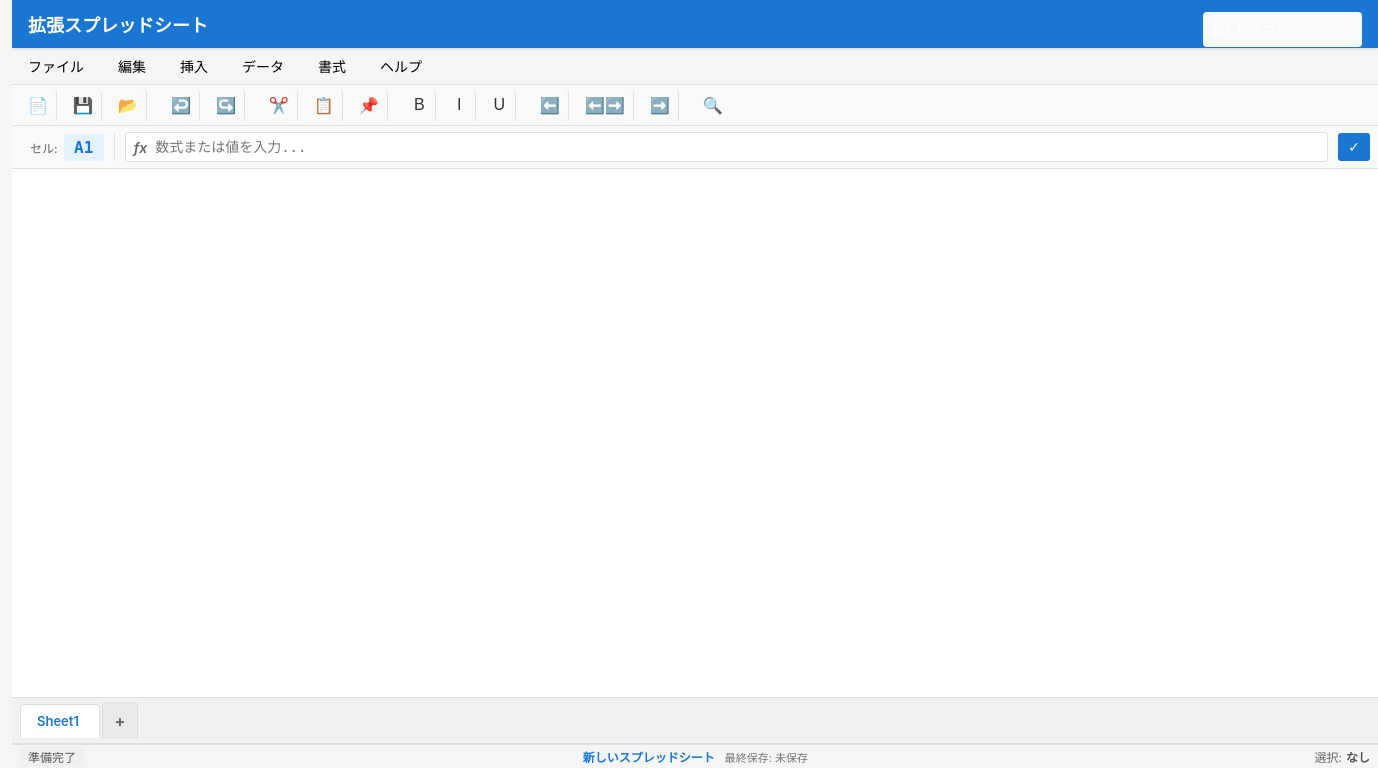
Test: can add new sheet
# 新しいシートを追加するボタンをクリック
Click the icon "+". click: (120, 721)
box: [115,711,126,731]
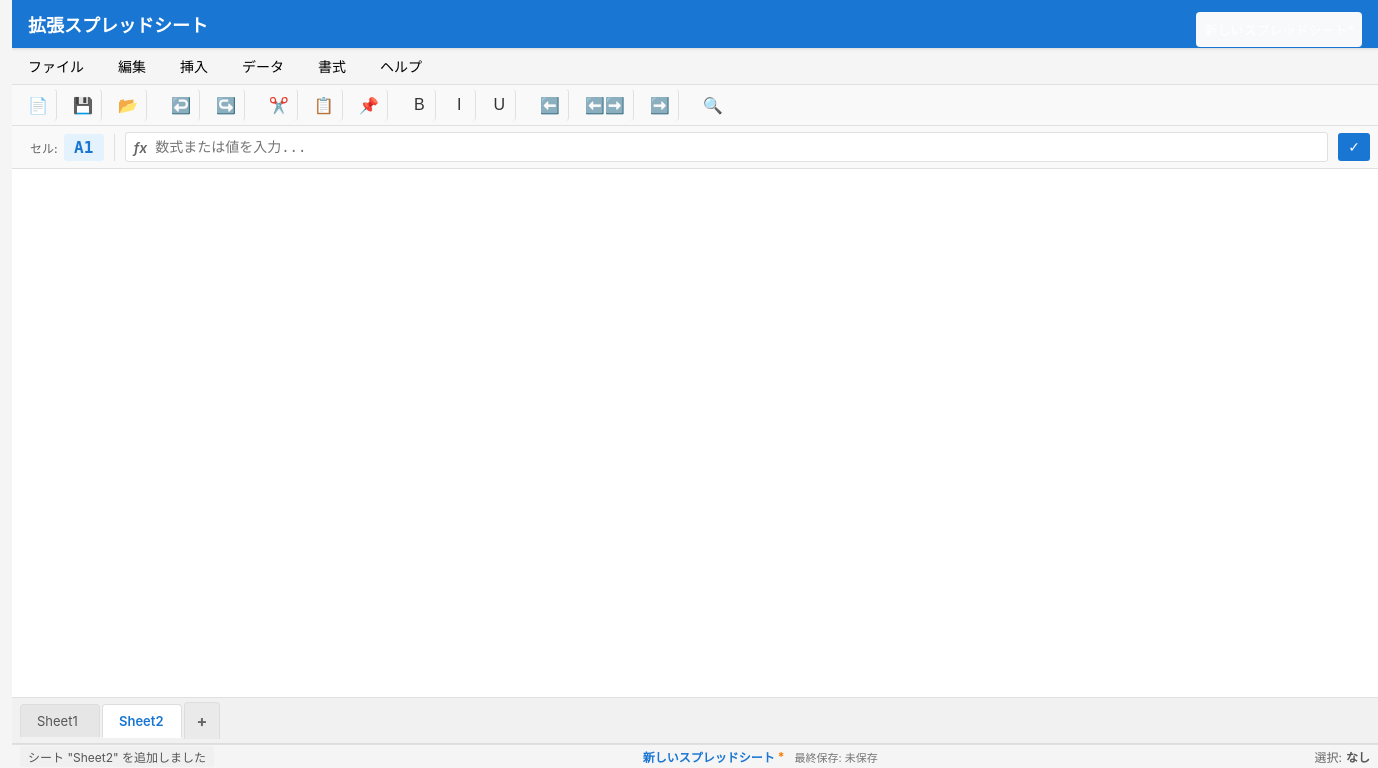
expect the text "Sheet2" is shown: met, box [119,713,165,729]
